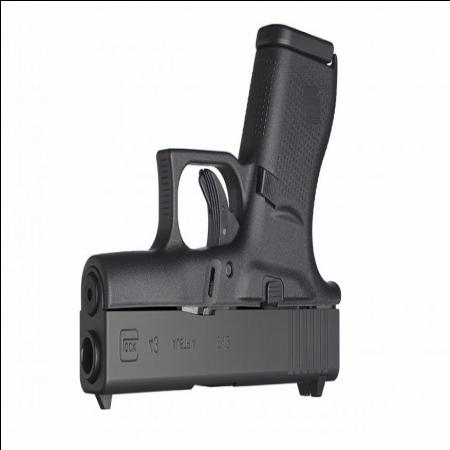Pistol: (76, 22, 340, 416)
